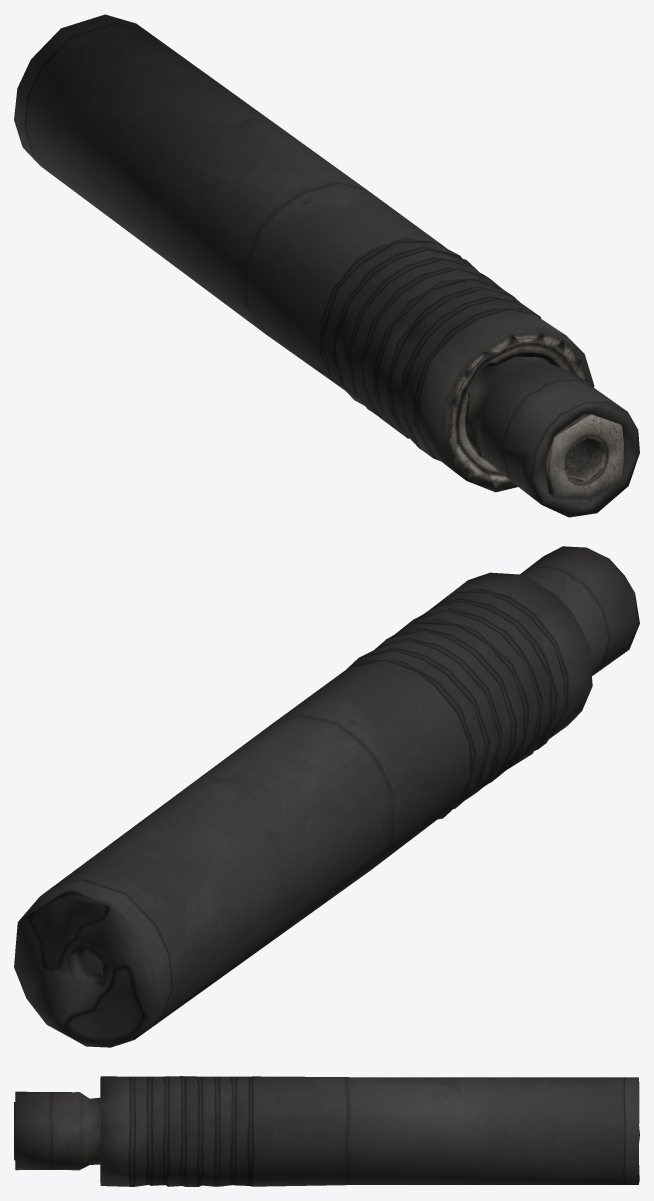
The model's file is Suppressor.fbx.
The picture shows the model from 3 angles, top to bottom: view 1: azimuth 30°, elevation 25°; view 2: azimuth 150°, elevation 25°; view 3: azimuth 270°, elevation 25°; orthographic projection. The views are drawn at different scales.
Visible parts, largest first — view 1: ReducedSuppressor.001; view 2: ReducedSuppressor.001; view 3: ReducedSuppressor.001.
Part boxes in pixels (x1,y1,x2,y2): ReducedSuppressor.001: (14,14,639,517); ReducedSuppressor.001: (14,546,639,1047); ReducedSuppressor.001: (14,1076,639,1186).
Bounding box in the file's own units: 0.0197 × 0.0197 × 0.1104.
